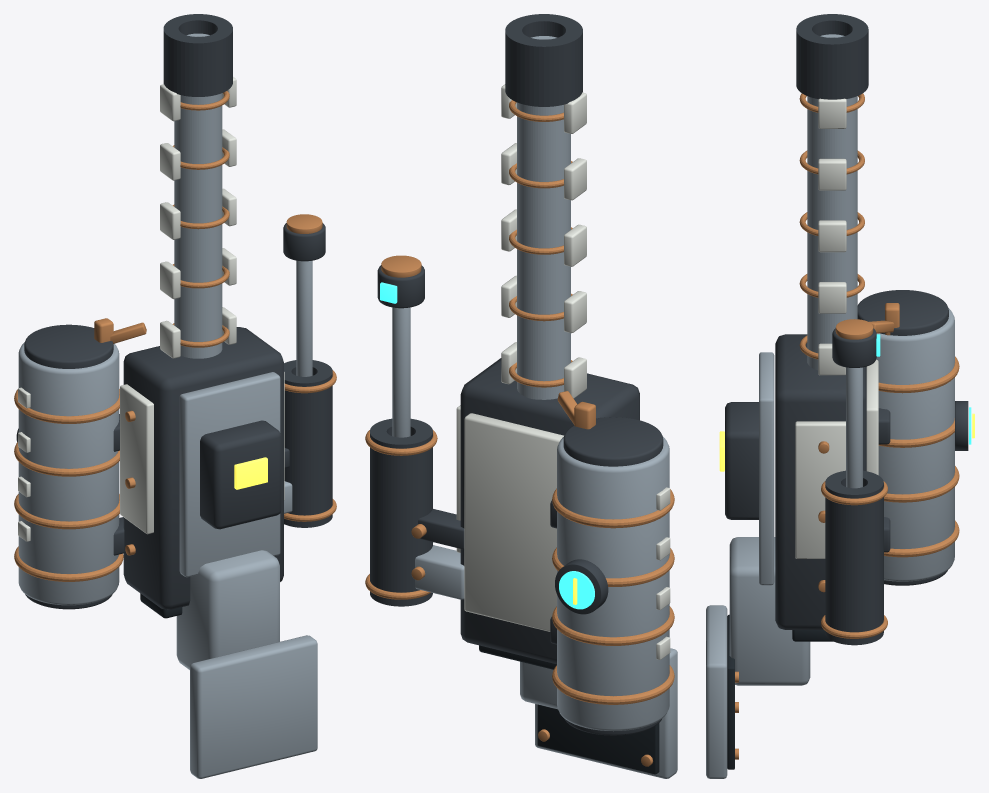
File: M01-012_pneumatic_bolt_launcher_animated.fbx
3 views of the same model, side by side, from view 1: azimuth 30°, elevation 25°; view 2: azimuth 150°, elevation 25°; view 3: azimuth 270°, elevation 25° (orthographic). The views are drawn at different scales.
Visible parts, largest first — view 1: Pressure_Tank, Socket_Flange, Receiver, Bored_Bolt_Barrel, Receiver_Belly, Riser_Core, Lower_Magazine, Piston_Cylinder_Hollow, Muzzle_Brake, Receiver_Side_Armor_L, Tank_Front_Cap, Ram_Chrome_Rod (+12 smaller); view 2: Pressure_Tank, Receiver_Ceramic_Top, Bored_Bolt_Barrel, Receiver, Piston_Cylinder_Hollow, Muzzle_Brake, Socket_Seal, Tank_Front_Cap, Ram_Chrome_Rod, Socket_Flange, Piston_Support_Inner, Riser_Core (+17 smaller); view 3: Pressure_Tank, Receiver, Piston_Cylinder_Hollow, Bored_Bolt_Barrel, Riser_Core, Muzzle_Brake, Receiver_Side_Armor_R, Lower_Magazine, Socket_Flange, Receiver_Belly, Tank_Front_Cap, Ram_Chrome_Rod (+16 smaller).
Part boxes in pixels (bbox=[...]): Pressure_Tank: bbox=[18, 342, 119, 605]; Socket_Flange: bbox=[190, 635, 317, 778]; Receiver: bbox=[123, 327, 283, 609]; Bored_Bolt_Barrel: bbox=[174, 33, 222, 358]; Receiver_Belly: bbox=[179, 372, 280, 577]; Riser_Core: bbox=[176, 550, 279, 669]; Lower_Magazine: bbox=[200, 420, 281, 529]; Piston_Cylinder_Hollow: bbox=[284, 360, 332, 527]; Muzzle_Brake: bbox=[163, 14, 232, 96]; Receiver_Side_Armor_L: bbox=[120, 384, 153, 534]; Tank_Front_Cap: bbox=[24, 324, 113, 368]; Ram_Chrome_Rod: bbox=[296, 260, 312, 376]; Pressure_Tank: bbox=[557, 437, 669, 731]; Receiver_Ceramic_Top: bbox=[464, 413, 563, 631]; Bored_Bolt_Barrel: bbox=[517, 36, 570, 399]; Receiver: bbox=[460, 358, 639, 664]; Piston_Cylinder_Hollow: bbox=[370, 418, 432, 606]; Muzzle_Brake: bbox=[505, 14, 582, 106]; Socket_Seal: bbox=[537, 704, 659, 774]; Tank_Front_Cap: bbox=[563, 417, 663, 466]; Ram_Chrome_Rod: bbox=[392, 307, 410, 437]; Socket_Flange: bbox=[535, 648, 677, 778]; Piston_Support_Inner: bbox=[415, 545, 464, 599]; Riser_Core: bbox=[520, 661, 557, 709]; Pressure_Tank: bbox=[876, 308, 954, 581]; Receiver: bbox=[775, 334, 866, 629]; Piston_Cylinder_Hollow: bbox=[825, 470, 883, 645]; Bored_Bolt_Barrel: bbox=[807, 34, 857, 370]; Riser_Core: bbox=[729, 537, 810, 685]; Muzzle_Brake: bbox=[796, 14, 868, 99]; Receiver_Side_Armor_R: bbox=[795, 421, 845, 558]; Lower_Magazine: bbox=[725, 402, 758, 519]; Socket_Flange: bbox=[706, 605, 727, 778]; Receiver_Belly: bbox=[759, 352, 774, 585]; Tank_Front_Cap: bbox=[857, 290, 948, 335]; Ram_Chrome_Rod: bbox=[846, 367, 862, 488].
Bounding box in the file's own units: 81.3 × 187 × 63.2.
